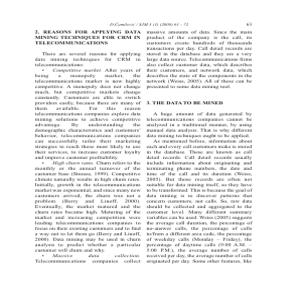text: (29, 28, 144, 266), (145, 28, 255, 267)
